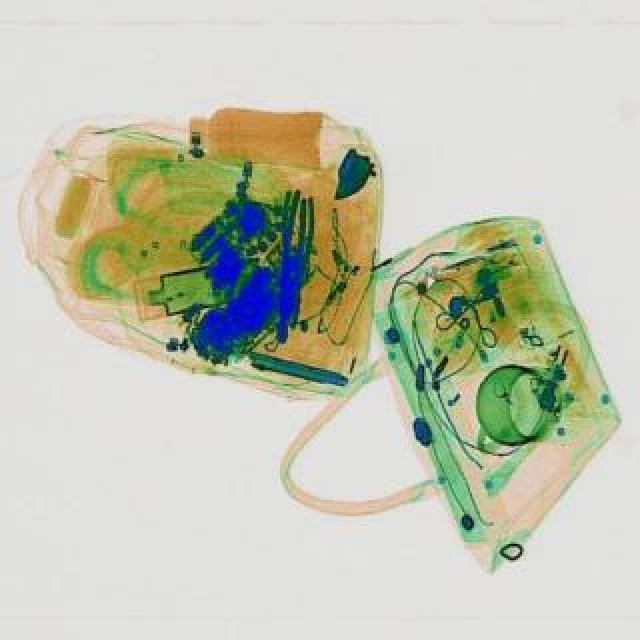wrench: (272, 192, 312, 328)
